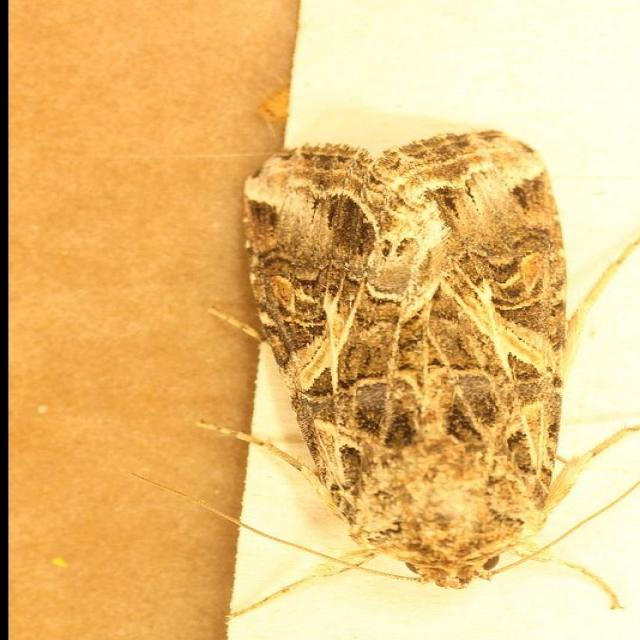army worm: (236, 130, 583, 594)
